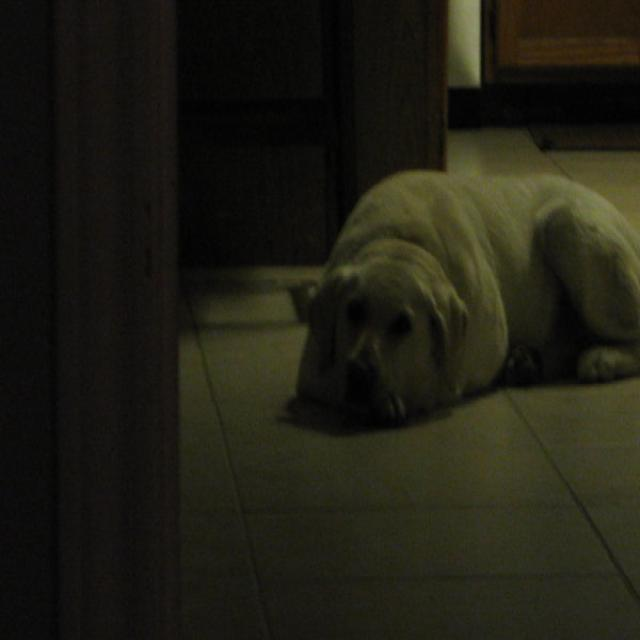Dog: (267, 102, 640, 474)
